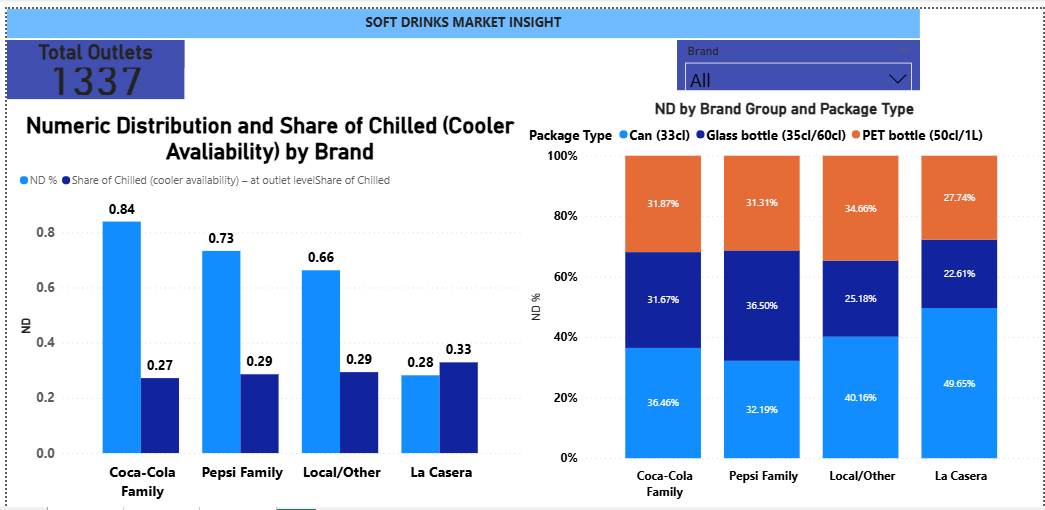

The page's visual inventory and layout, read from the dashboard file:
{"tool":"powerbi","page":{"name":"Page 1","canvas":[1280,720],"ordinal":0},"visuals":[{"type":"clusteredColumnChart","title":"Numeric Distribution  and Share of Chilled (Cooler Avaliability) by Brand","fields":{"Category":["Data.Brand Group"],"Y":["Data.ND %","Data.Share of Chilled (cooler availability) – at outlet levelShare of Chilled"]},"box":[9.9,127.2,629.6,486.4],"z":0},{"type":"hundredPercentStackedColumnChart","title":"ND by Brand Group and Package Type","fields":{"Category":["Data.Brand Group"],"Series":["Data.Package Type"],"Y":["Data.ND %"]},"box":[639.5,111.1,640.7,502.5],"z":1000},{"type":"card","title":"Total Outlets","fields":{"Values":["Data.Total Outlets"]},"box":[0,38.3,218.5,72.8],"z":1001},{"type":"slicer","fields":{"Values":["Data.Brand"]},"box":[827.2,38.3,300,61.7],"z":1002},{"type":"textbox","box":[0,0,1127.2,36],"z":1003}]}

Visuals, with their boxes on the page's 1280x720 design canvas (x1, y1, x2, y2). These are canvas units, not pixel positions in the 1045x510 screenshot, which may show the page scaled, cropped or inside an application window:
"Numeric Distribution  and Share of Chilled (Cooler Avaliability) by Brand" clusteredColumnChart: select_region(10, 127, 640, 614)
"ND by Brand Group and Package Type" hundredPercentStackedColumnChart: select_region(640, 111, 1280, 614)
"Total Outlets" card: select_region(0, 38, 218, 111)
slicer - Data.Brand: select_region(827, 38, 1127, 100)
textbox: select_region(0, 0, 1127, 36)
